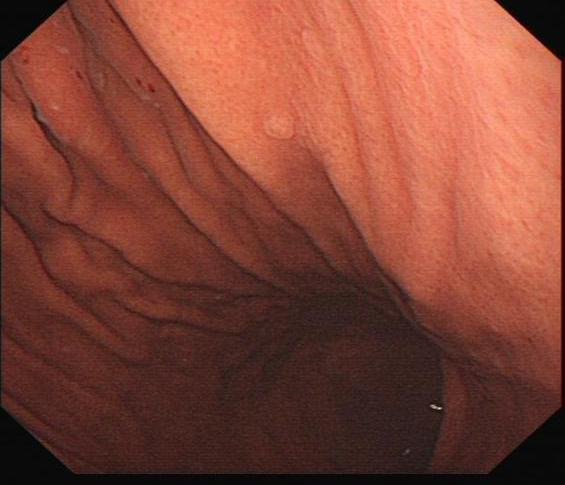Polyp: (246, 83, 309, 155)
